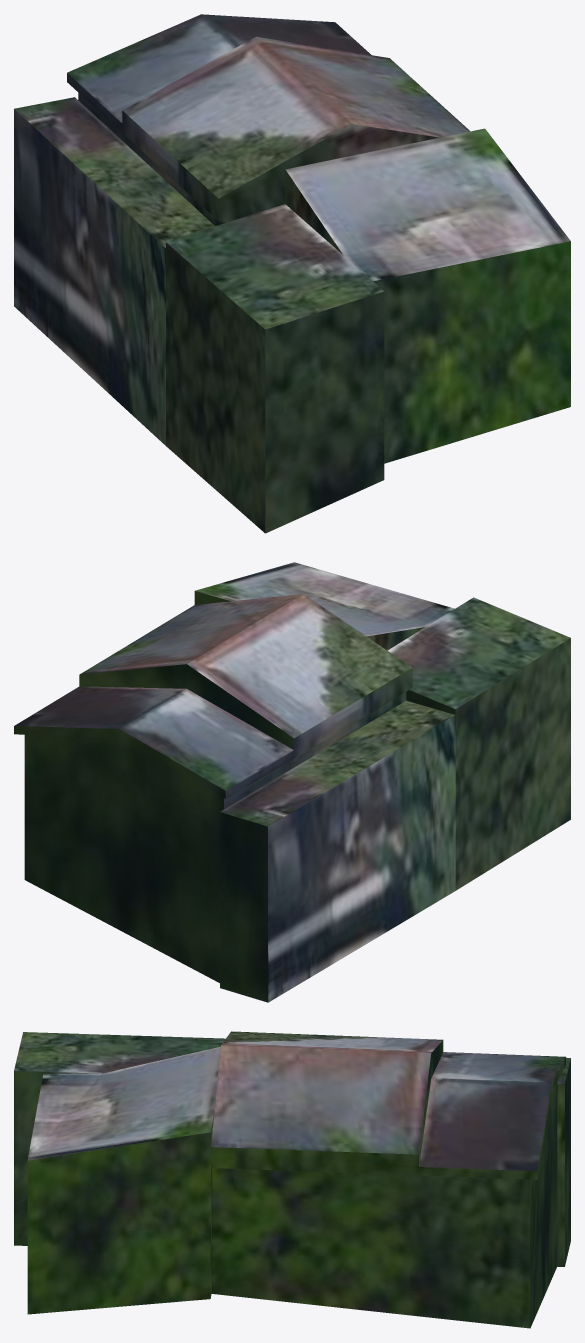
3 renders of one model, top to bottom at view 1: azimuth 30°, elevation 25°; view 2: azimuth 150°, elevation 25°; view 3: azimuth 270°, elevation 25°, orthographic. The views are drawn at different scales.
Parts seen in each view (by area): view 1: B290384033201062A0; view 2: B290384033201062A0; view 3: B290384033201062A0.
Boxes of the visible parts, box(x1,y1,x2,y2) form: B290384033201062A0: box(14, 14, 570, 533); B290384033201062A0: box(14, 562, 570, 1002); B290384033201062A0: box(14, 1031, 570, 1328).
Size of the model in its own units: 6.65 by 5.2 by 9.96.
1 material, 1 textured.
